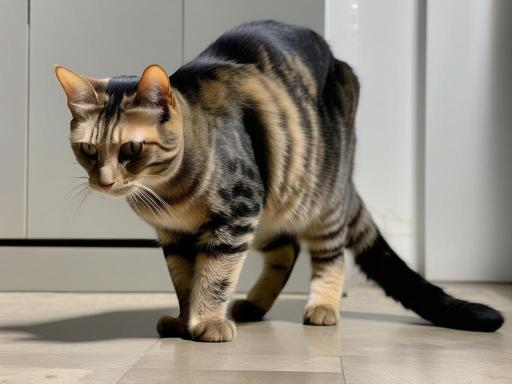cat_standing: (56, 20, 504, 342)
